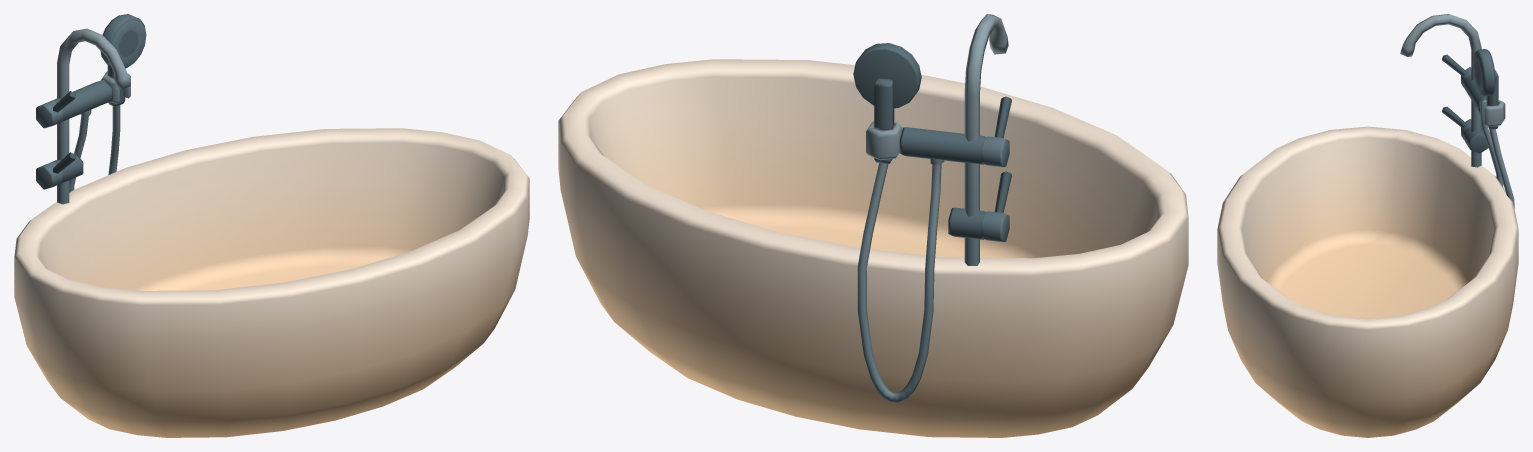
File: Furniture_Bathroom_4.fbx
The picture shows the model from 3 angles, left to right: view 1: azimuth 30°, elevation 25°; view 2: azimuth 150°, elevation 25°; view 3: azimuth 270°, elevation 25°; orthographic projection. The views are drawn at different scales.
Visible parts, largest first — view 1: Furniture_Bathroom_4; view 2: Furniture_Bathroom_4; view 3: Furniture_Bathroom_4.
Part boxes in pixels (left/top/right/bottom): Furniture_Bathroom_4: left=14, top=14, right=529, bottom=437; Furniture_Bathroom_4: left=558, top=14, right=1188, bottom=437; Furniture_Bathroom_4: left=1217, top=14, right=1518, bottom=437.
Bounding box in the file's own units: 286 × 199 × 182.
